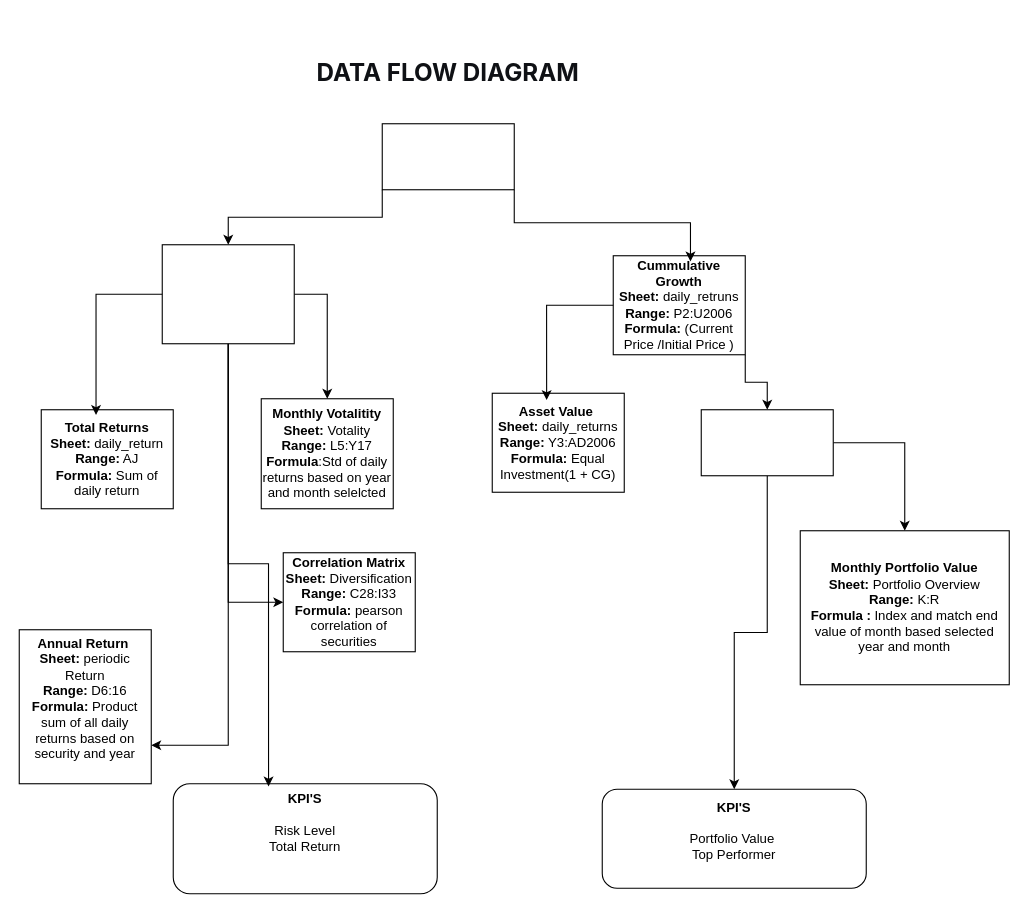
Image size: 1029x913. Some labels were removed from this diagram. The shapes that lost their labels are listed below. From the top down, each one's centre as x and y in pixels, then its label:
the point at 447,156: Cleaned Data Sheet:daily_returns Range: A2:G2006
the point at 227,294: Daily Returns Sheet: daily_returns Range: I2:N2006 Formula: (Price/Old Price) -1
the point at 766,442: Portfolio Value Sheet: daily_returns Range: W Formula: Avg(CG)
